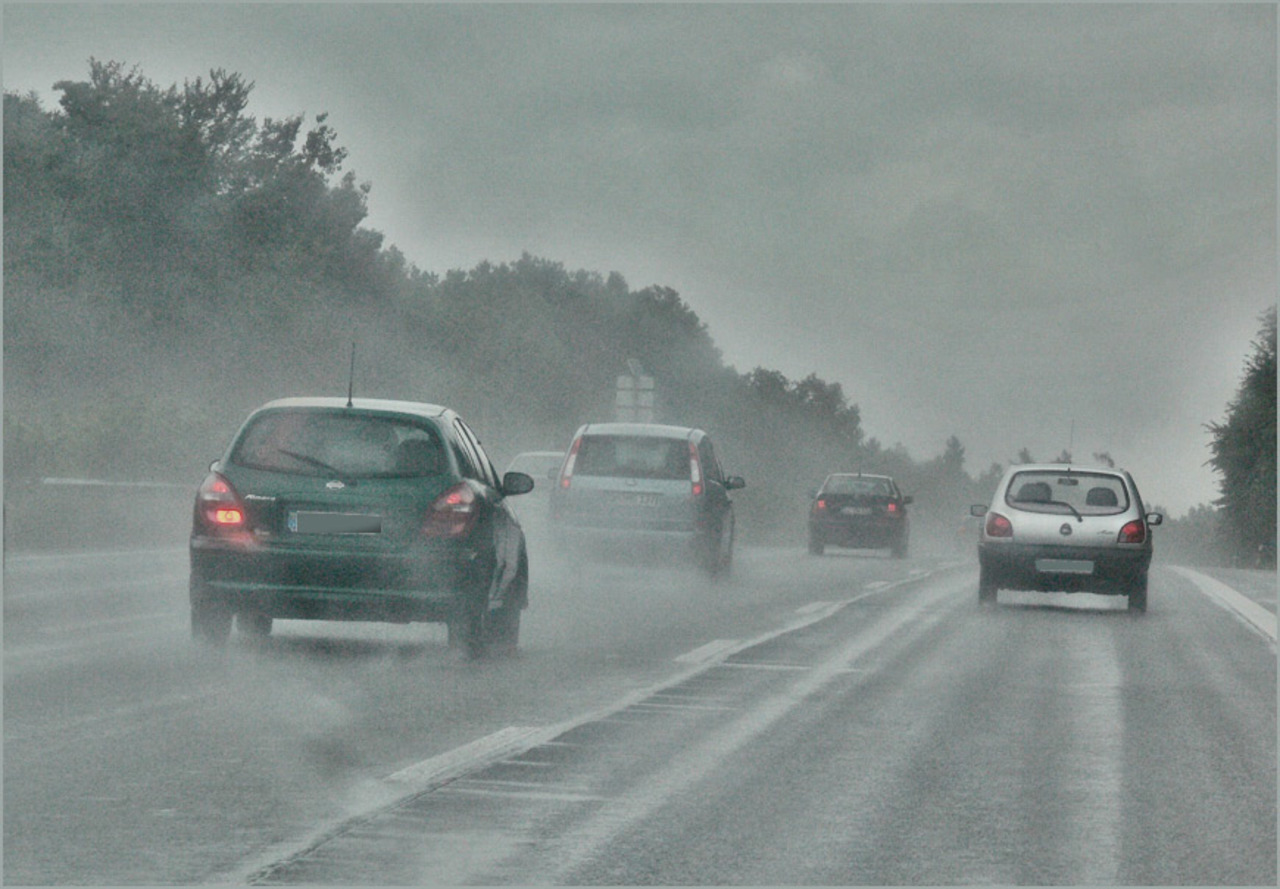car: (187, 395, 531, 660), (548, 422, 743, 581), (971, 464, 1154, 613), (808, 471, 912, 557), (498, 439, 573, 536)
